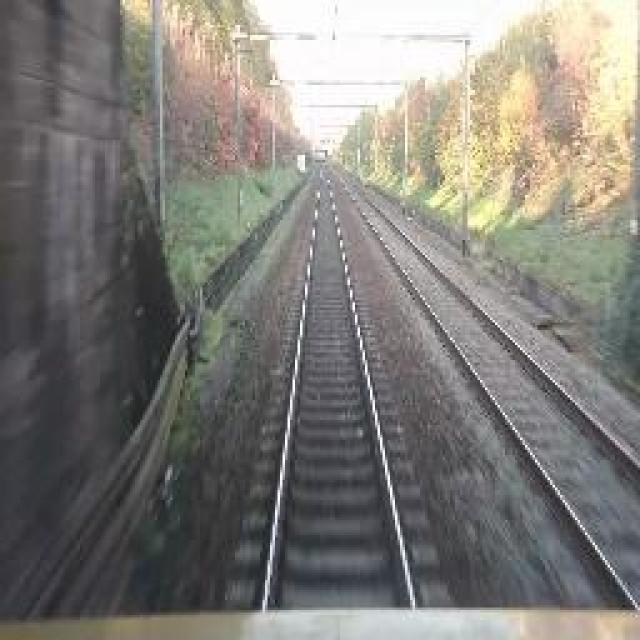rail: (214, 156, 461, 616)
